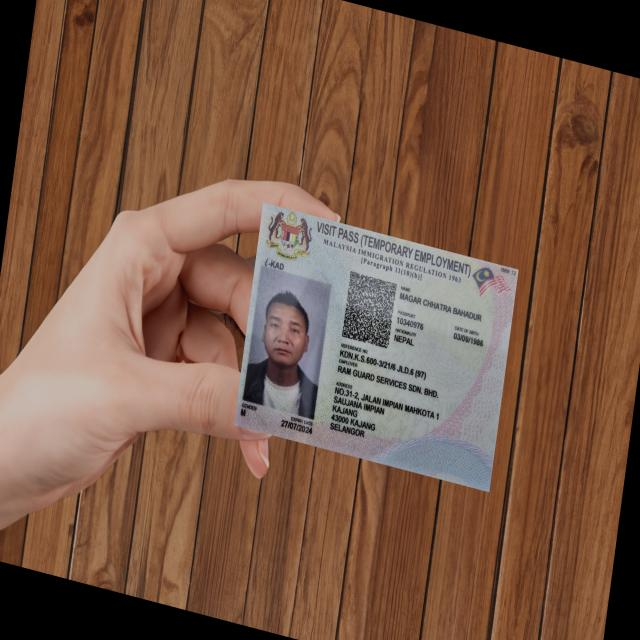ikad-temp: (233, 201, 520, 493)
